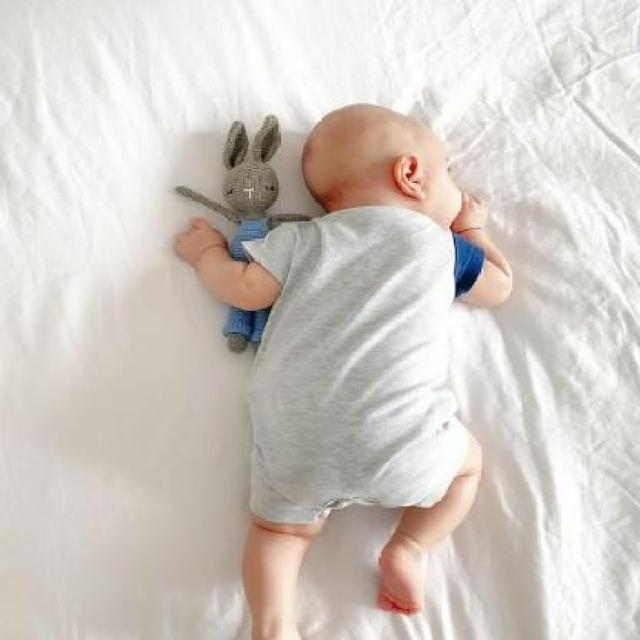baby: (171, 101, 514, 638)
